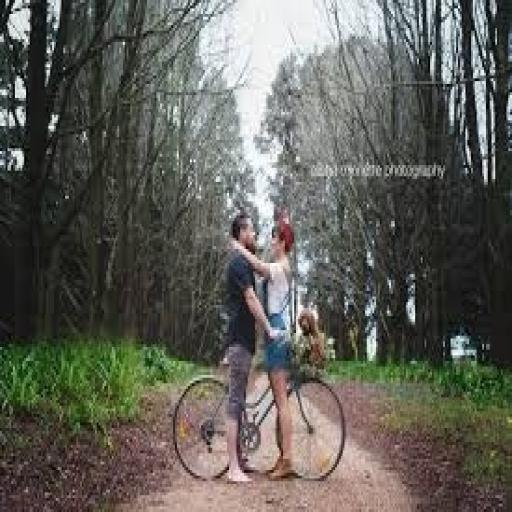cycling: (169, 202, 350, 490)
